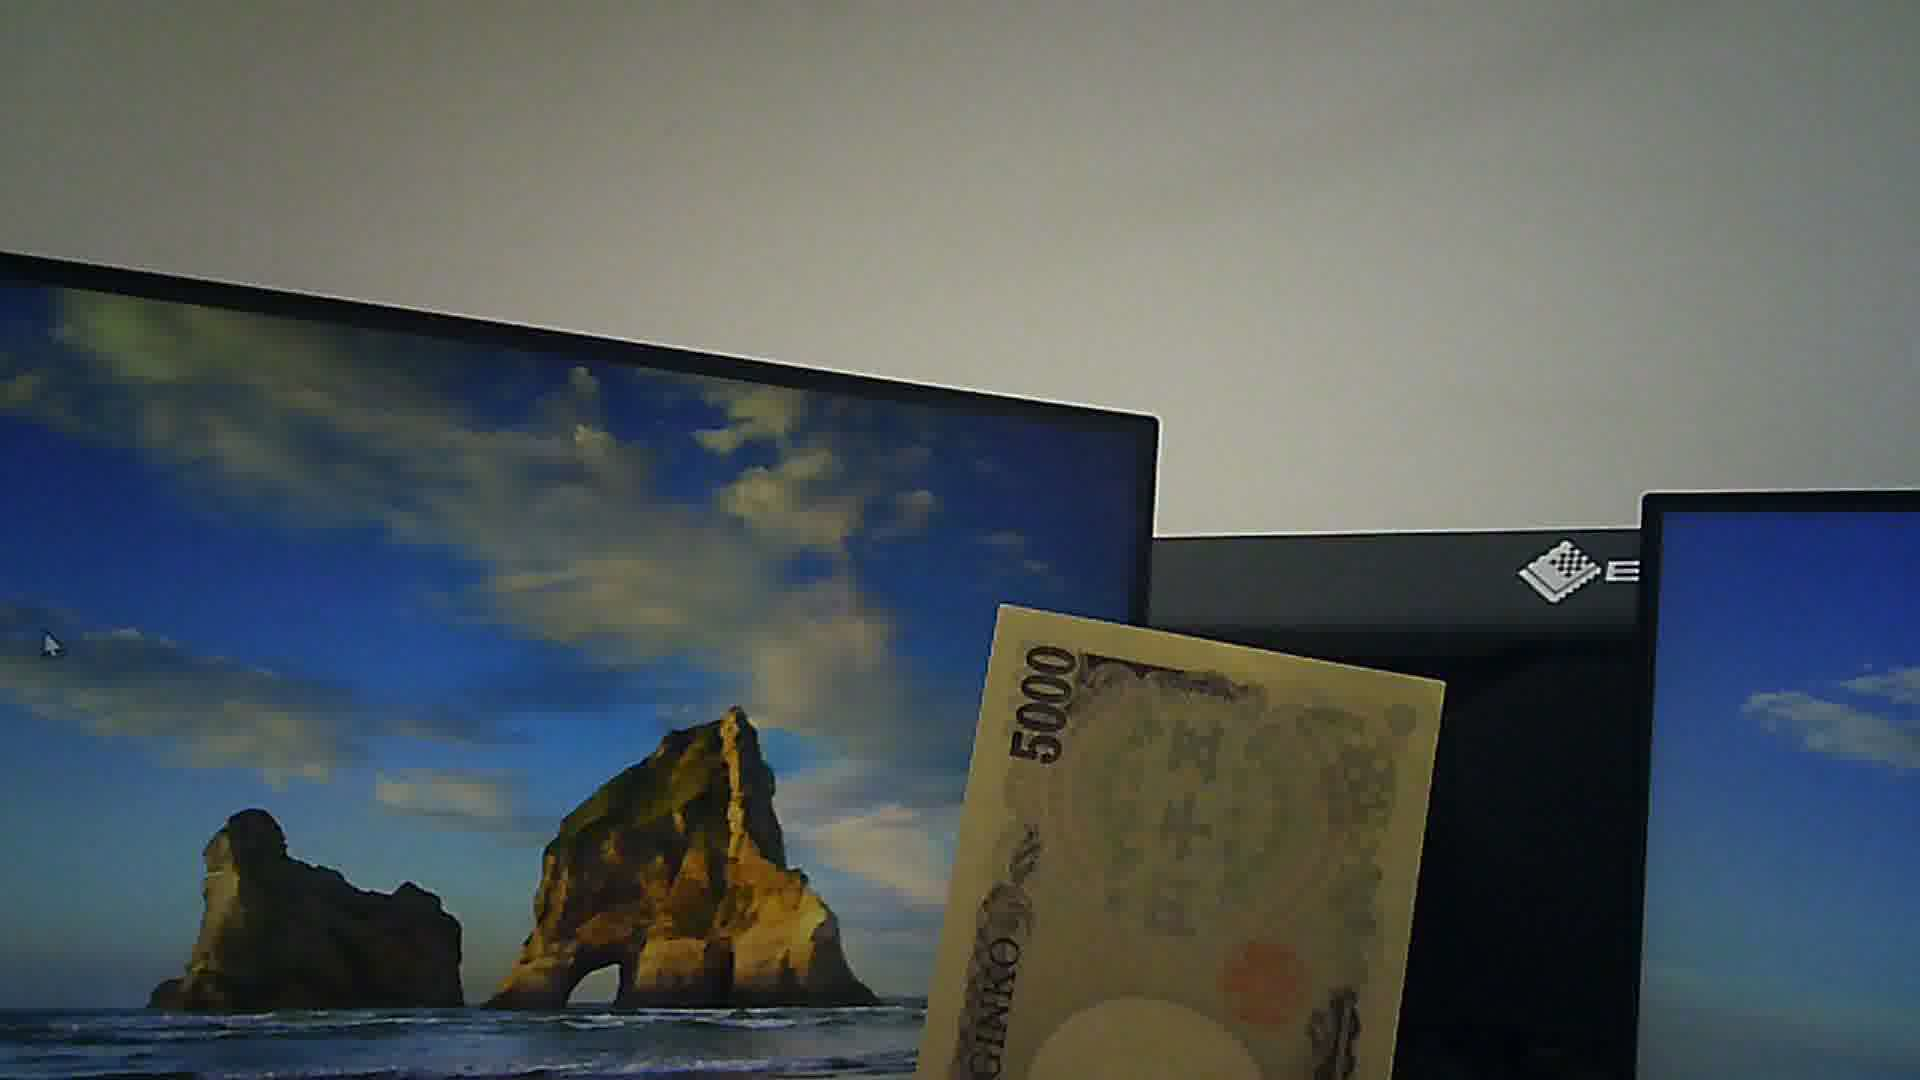5,000 Yen: (906, 592, 1462, 1079)
